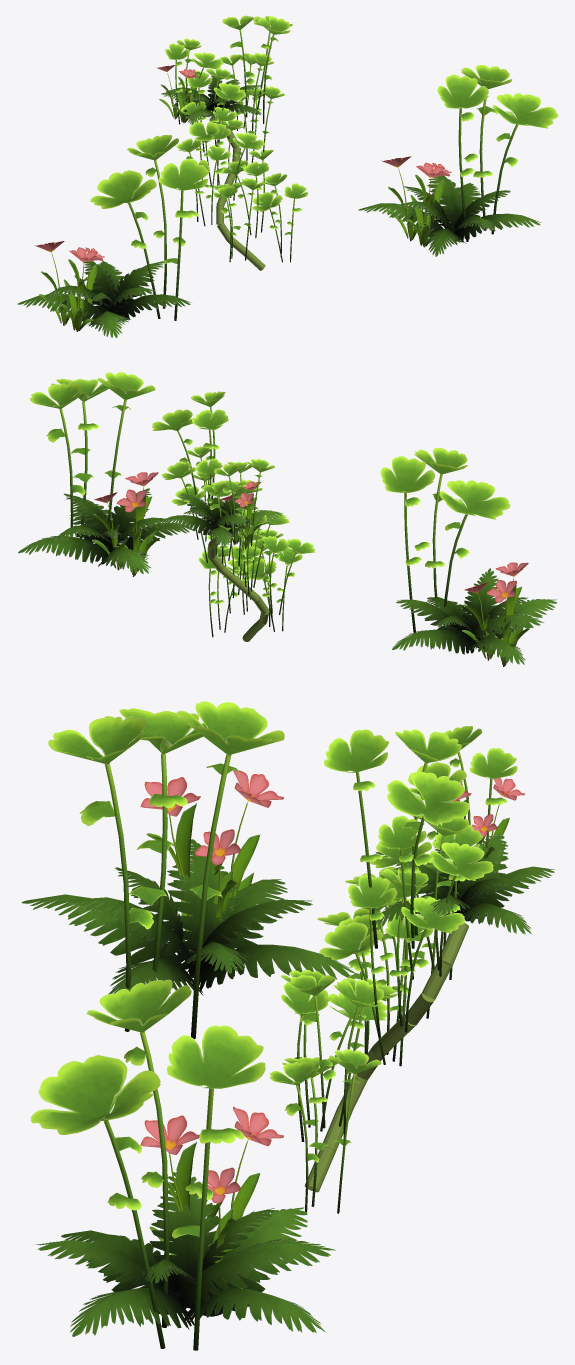
Rendered from Water_Trough_Greenery.glb.
3 views of the same model, one above another, from view 1: azimuth 30°, elevation 25°; view 2: azimuth 150°, elevation 25°; view 3: azimuth 270°, elevation 25° (orthographic). The views are drawn at different scales.
Visible parts, largest first — view 1: Patch_04, Patch_00, Patch_02, Patch_01, Patch_03, Patch_05; view 2: Patch_04, Patch_00, Patch_02, Patch_01, Patch_03, Patch_05; view 3: Patch_04, Patch_02, Patch_00, Patch_01, Patch_03, Patch_05.
Part boxes in pixels (x1,y1,x2,y2): Patch_04: (161,15,308,270); Patch_00: (17,134,209,338); Patch_02: (358,64,558,256); Patch_01: (35,241,104,331); Patch_03: (381,156,451,247); Patch_05: (156,65,197,122); Patch_04: (151,391,315,641); Patch_00: (380,448,557,664); Patch_02: (18,372,193,573); Patch_01: (462,562,529,666); Patch_03: (92,472,159,576); Patch_05: (218,481,262,548); Patch_04: (269,726,554,1213); Patch_02: (30,979,335,1350); Patch_00: (21,701,355,1039); Patch_01: (140,770,283,952); Patch_03: (140,1106,283,1283); Patch_05: (449,778,524,888).
Size of the model in its own units: 2.04 by 0.9404 by 0.9785.
5 materials, 4 textured.
